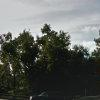Tree: (7, 21, 81, 87)
